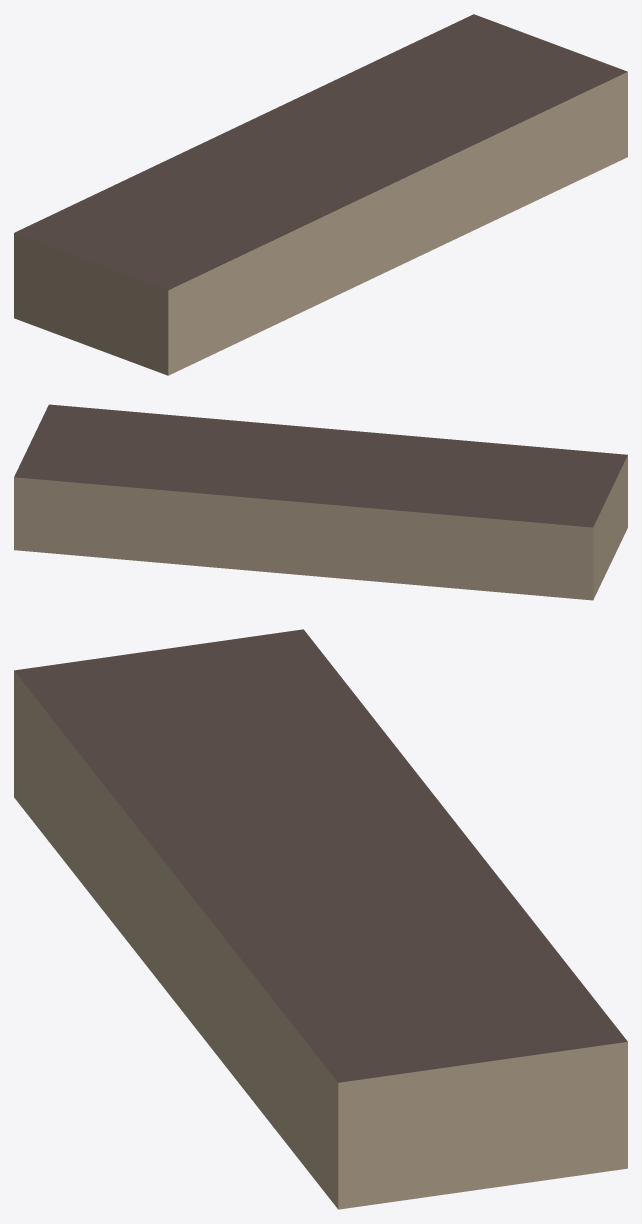
3 views of the same model, one above another, from view 1: azimuth 30°, elevation 25°; view 2: azimuth 150°, elevation 25°; view 3: azimuth 270°, elevation 25° (orthographic). The views are drawn at different scales.
Parts seen in each view (by area): view 1: HP-w408450753; view 2: HP-w408450753; view 3: HP-w408450753.
Part boxes in pixels (<box>): HP-w408450753: <box>14,14,627,375</box>; HP-w408450753: <box>14,404,627,600</box>; HP-w408450753: <box>14,629,627,1209</box>.
Bounding box in the file's own units: 46 × 6 × 26.32.
